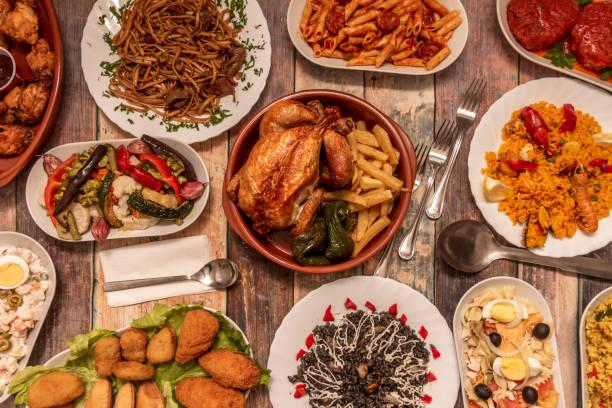Braised Crucian Carp: (222, 89, 410, 273), (80, 0, 267, 145), (265, 277, 461, 406), (467, 75, 608, 254), (29, 306, 252, 405), (27, 138, 208, 242), (451, 276, 570, 405), (286, 0, 465, 76)
